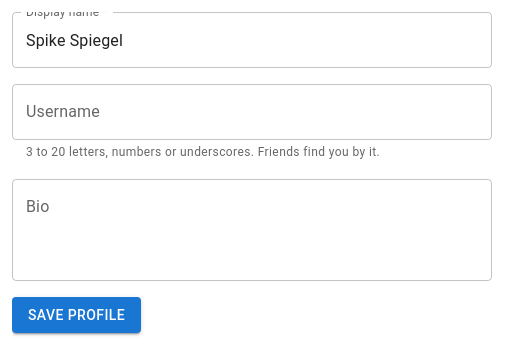
Test: ProfileForm › sends the edited fields and shows the saved profile
Type "Spike" into the field labelled "Username". click: point(252, 112)
box: [12,84,492,140]
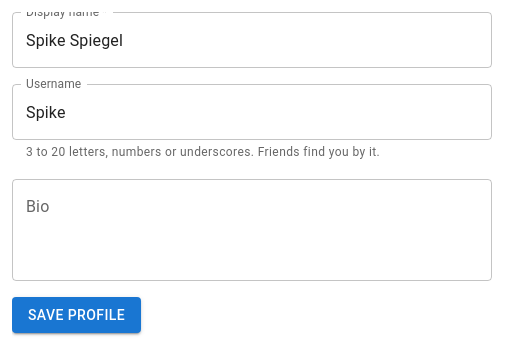
Type "Bounty hunter" into the text box labelled "Bio". click: point(252, 230)
box: [26,195,478,264]
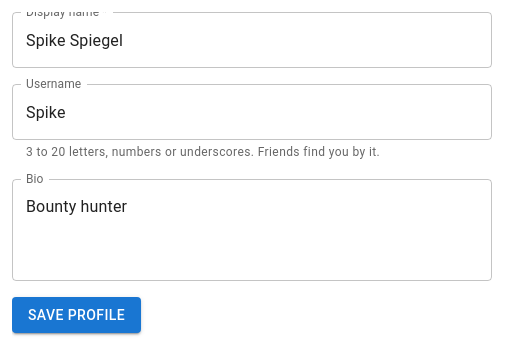
Click the button "Save profile". click: point(76, 315)
box: [12,297,141,333]
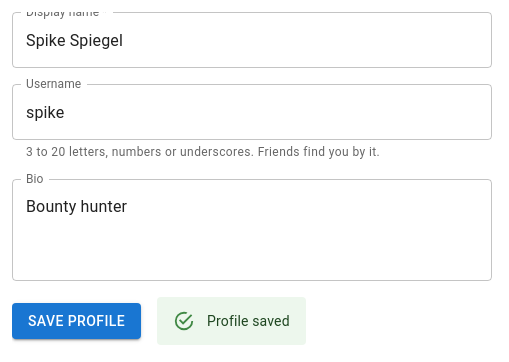
Now the text "Profile saved" is shown, box [207,313,290,329]
